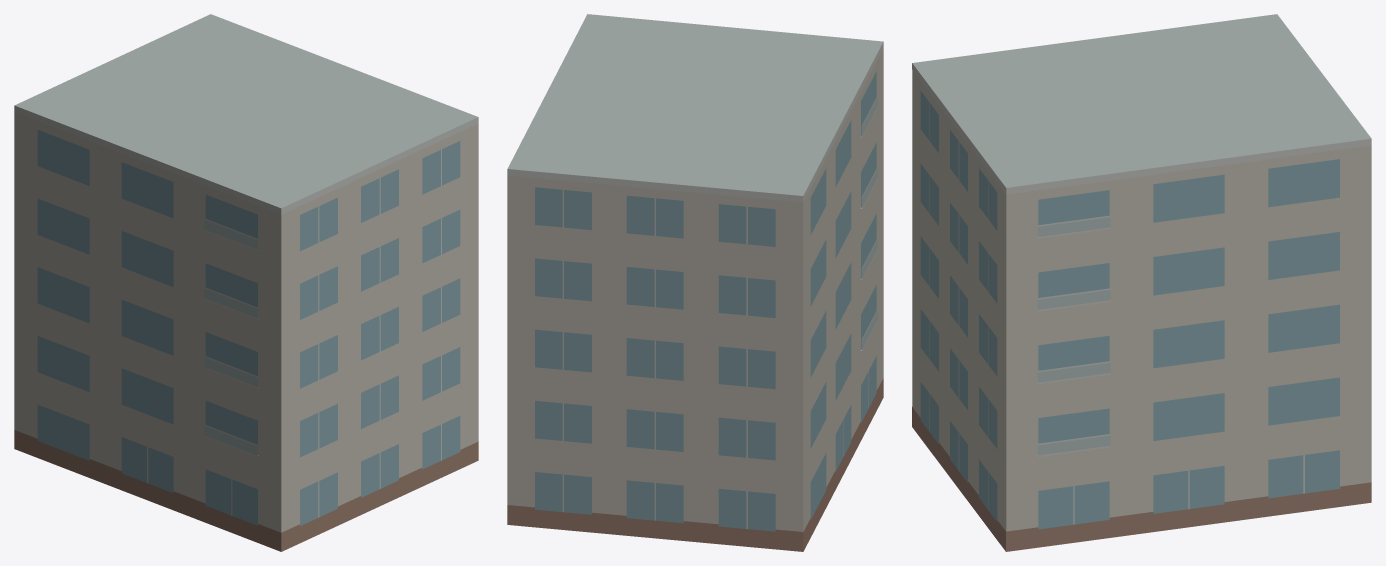
File: survey-upis-32891587.glb
3 views of the same model, side by side, from view 1: azimuth 30°, elevation 25°; view 2: azimuth 150°, elevation 25°; view 3: azimuth 270°, elevation 25° (orthographic). The views are drawn at different scales.
Visible parts, largest first — view 1: survey-upis-32891587.tmp; view 2: survey-upis-32891587.tmp; view 3: survey-upis-32891587.tmp.
Part boxes in pixels (x1=…): survey-upis-32891587.tmp: x1=14, y1=14, x2=478, y2=551; survey-upis-32891587.tmp: x1=507, y1=14, x2=883, y2=551; survey-upis-32891587.tmp: x1=912, y1=14, x2=1371, y2=551.
Bounding box in the file's own units: 13.68 × 13.34 × 15.27.
